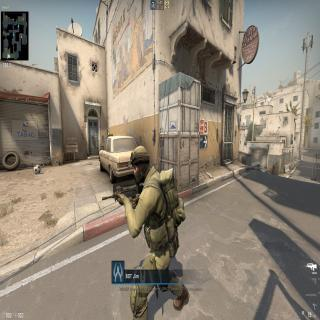CT-Head: (129, 143, 151, 185)
